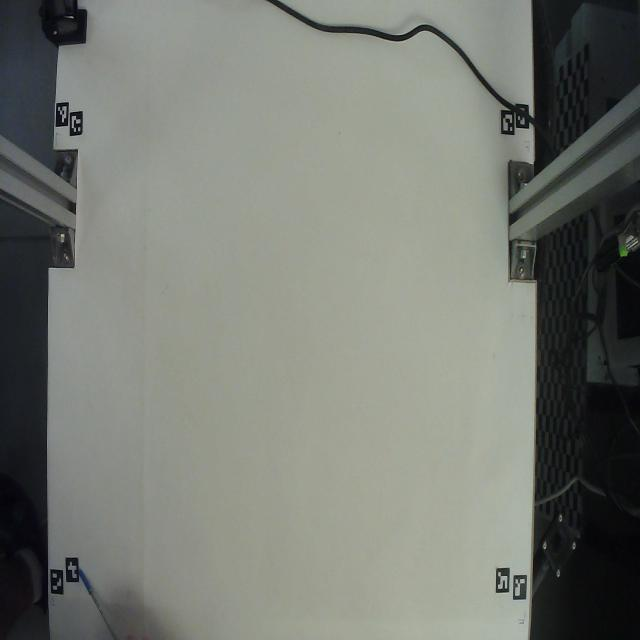Pres: (61, 529, 159, 640)
